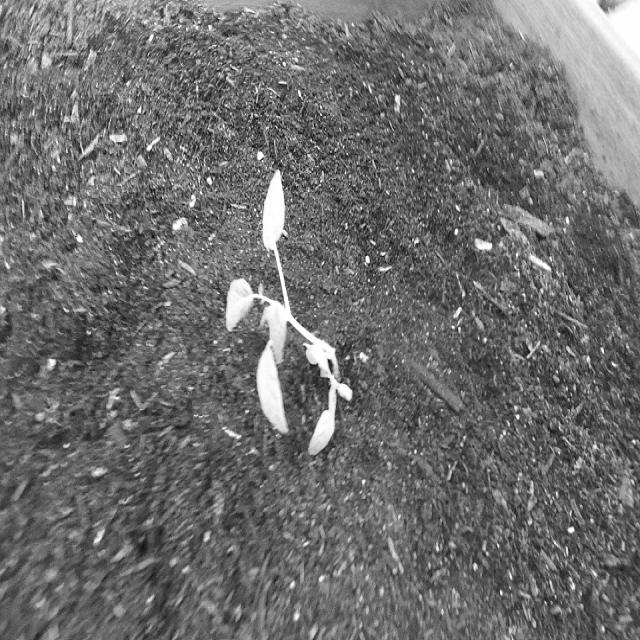Healthy: (220, 156, 367, 477)
